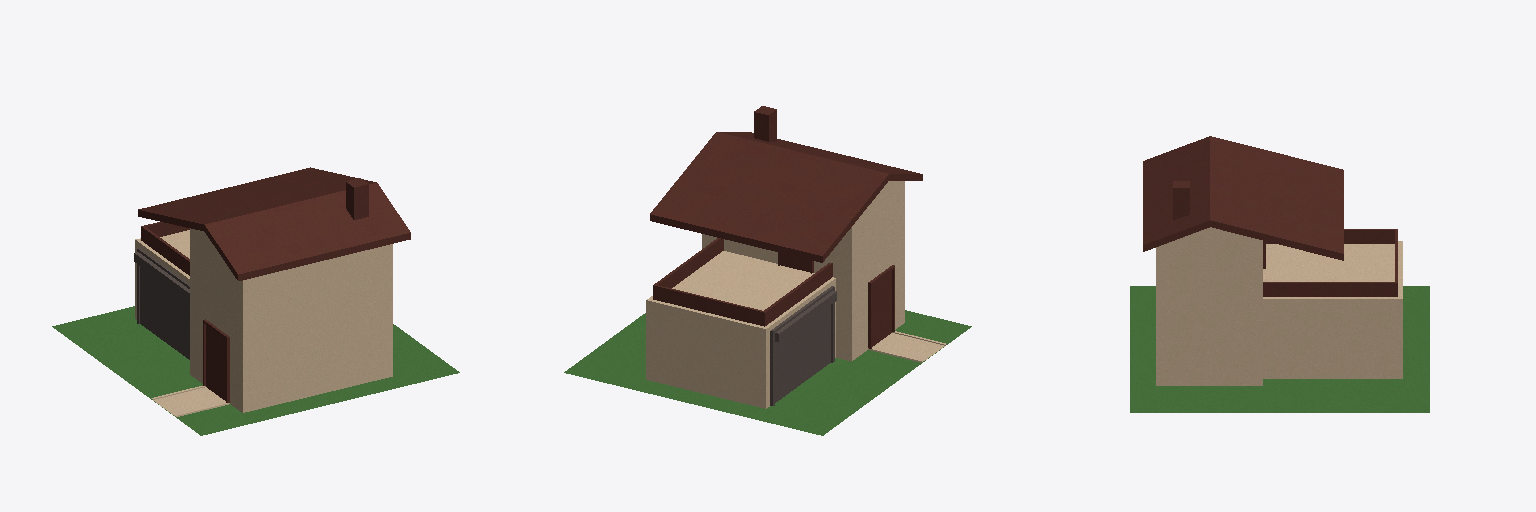
3 renders of one model, left to right at view 1: azimuth 30°, elevation 25°; view 2: azimuth 150°, elevation 25°; view 3: azimuth 270°, elevation 25°, orthographic.
Parts seen in each view (by area): view 1: House.001_Plane.006, Plane.002_Plane.009; view 2: House.001_Plane.006, Plane.002_Plane.009; view 3: House.001_Plane.006, Plane.002_Plane.009.
Part boxes in pixels (x1,y1,x2,y2): House.001_Plane.006: (134, 167, 410, 416); Plane.002_Plane.009: (52, 306, 459, 435); House.001_Plane.006: (646, 106, 946, 408); Plane.002_Plane.009: (564, 310, 971, 435); House.001_Plane.006: (1143, 136, 1402, 385); Plane.002_Plane.009: (1130, 286, 1429, 412).
Bounding box in the file's own units: 20 × 14.25 × 20.
5 materials, 4 textured.